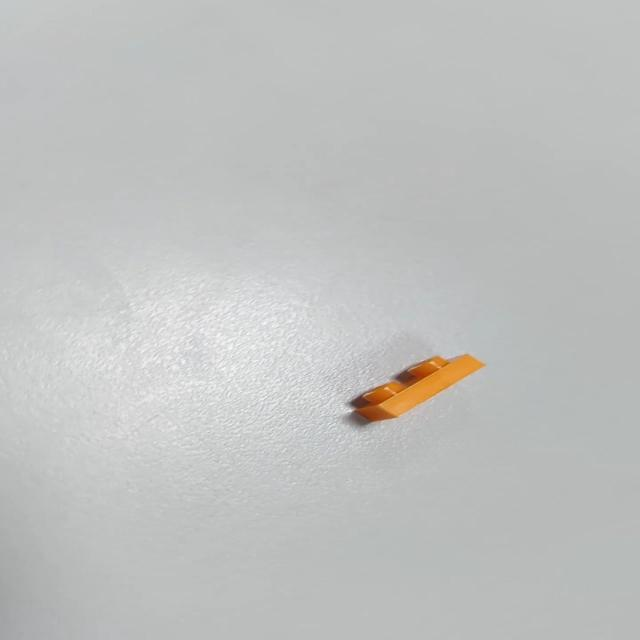C2x1x0: (350, 346, 496, 432), (353, 352, 488, 423)
